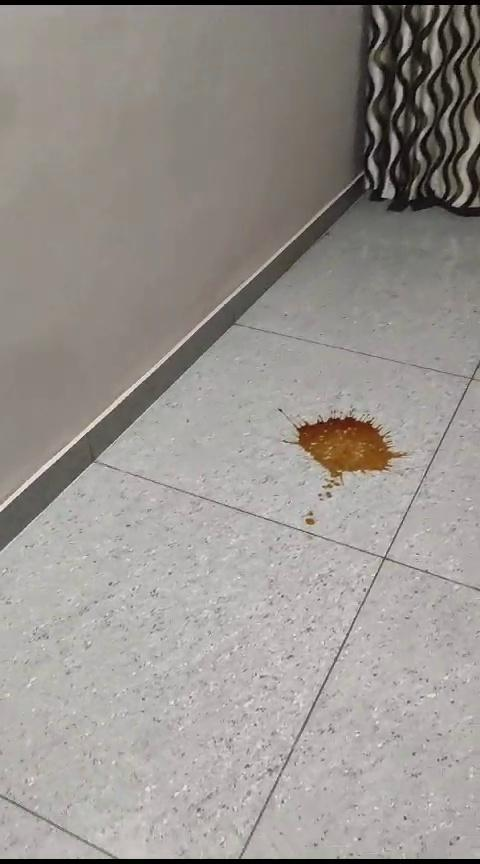dirty_floor: (285, 394, 415, 530)
